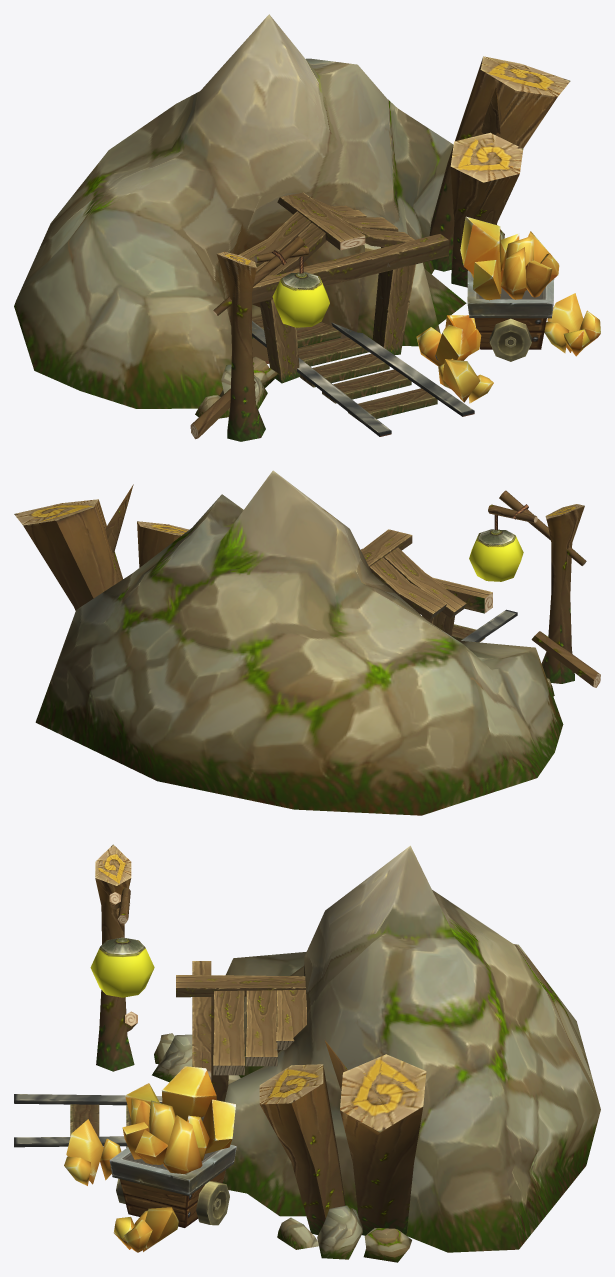
Rendered from The main city_005.FBX.
3 renders of one model, top to bottom at view 1: azimuth 30°, elevation 25°; view 2: azimuth 150°, elevation 25°; view 3: azimuth 270°, elevation 25°, orthographic. The views are drawn at different scales.
Parts seen in each view (by area): view 1: The main city_005; view 2: The main city_005; view 3: The main city_005.
Part boxes in pixels (x1,y1,x2,y2): The main city_005: (14, 14, 600, 441); The main city_005: (14, 470, 600, 815); The main city_005: (14, 844, 600, 1262).
Bounding box in the file's own units: 57.78 × 29.66 × 50.17.
